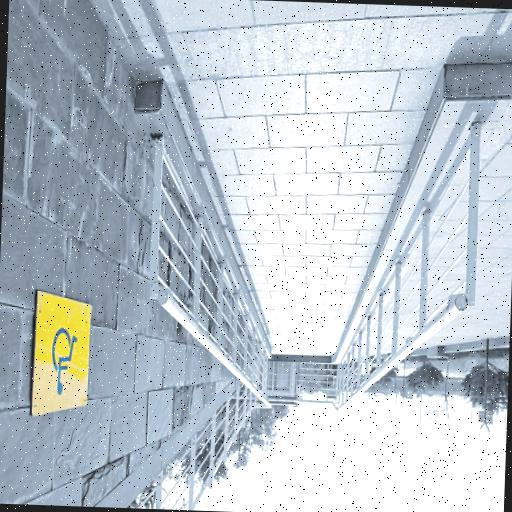ramp: (151, 60, 454, 362)
